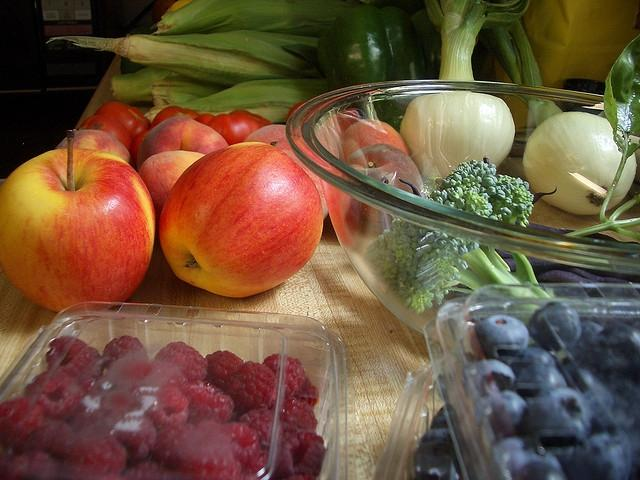apple: (2, 130, 156, 314), (158, 142, 324, 298), (138, 150, 206, 231)
blueberry: (518, 387, 594, 446), (568, 431, 640, 480), (474, 314, 530, 366), (474, 390, 528, 438), (592, 324, 640, 378), (528, 305, 582, 352), (514, 364, 566, 406), (462, 358, 514, 400), (414, 440, 453, 480), (491, 435, 525, 480), (584, 386, 616, 430), (598, 370, 636, 406), (510, 345, 558, 370), (571, 321, 602, 354), (419, 427, 453, 447), (572, 367, 594, 392), (432, 412, 458, 428), (552, 448, 575, 462), (626, 316, 640, 330)
broccoli: (364, 218, 540, 313), (424, 159, 558, 228)
corn: (46, 30, 318, 88), (144, 78, 330, 124), (150, 0, 362, 38), (109, 66, 183, 106)
raspberry: (222, 361, 279, 422), (174, 428, 238, 480), (61, 432, 127, 480), (24, 368, 82, 420), (240, 408, 286, 470), (46, 336, 100, 384), (276, 430, 326, 480), (181, 382, 234, 429), (17, 421, 80, 459), (0, 396, 43, 446), (156, 341, 208, 382), (150, 424, 197, 468), (111, 417, 157, 461), (262, 354, 306, 400), (146, 386, 190, 430), (202, 350, 244, 392), (222, 422, 260, 468), (102, 336, 148, 371), (9, 452, 65, 480), (146, 359, 190, 390), (280, 397, 318, 429), (105, 359, 152, 384), (120, 460, 174, 480), (296, 376, 320, 410), (101, 389, 133, 414)
